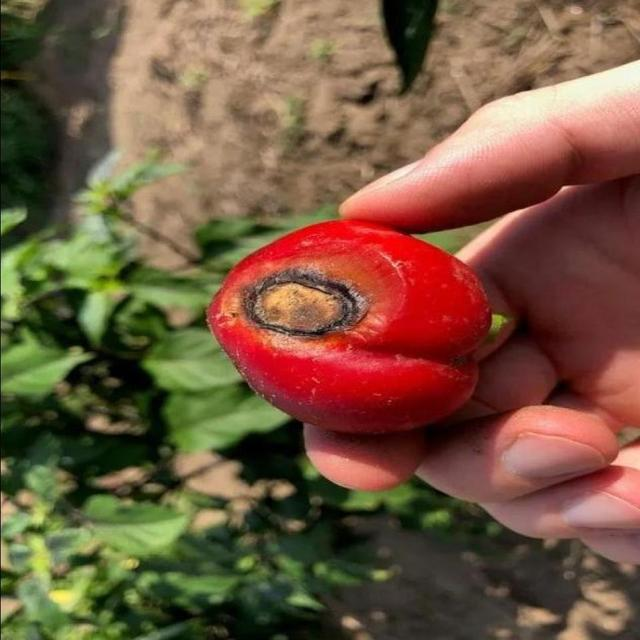Blossom End Rot Fruit: (149, 179, 246, 228)
